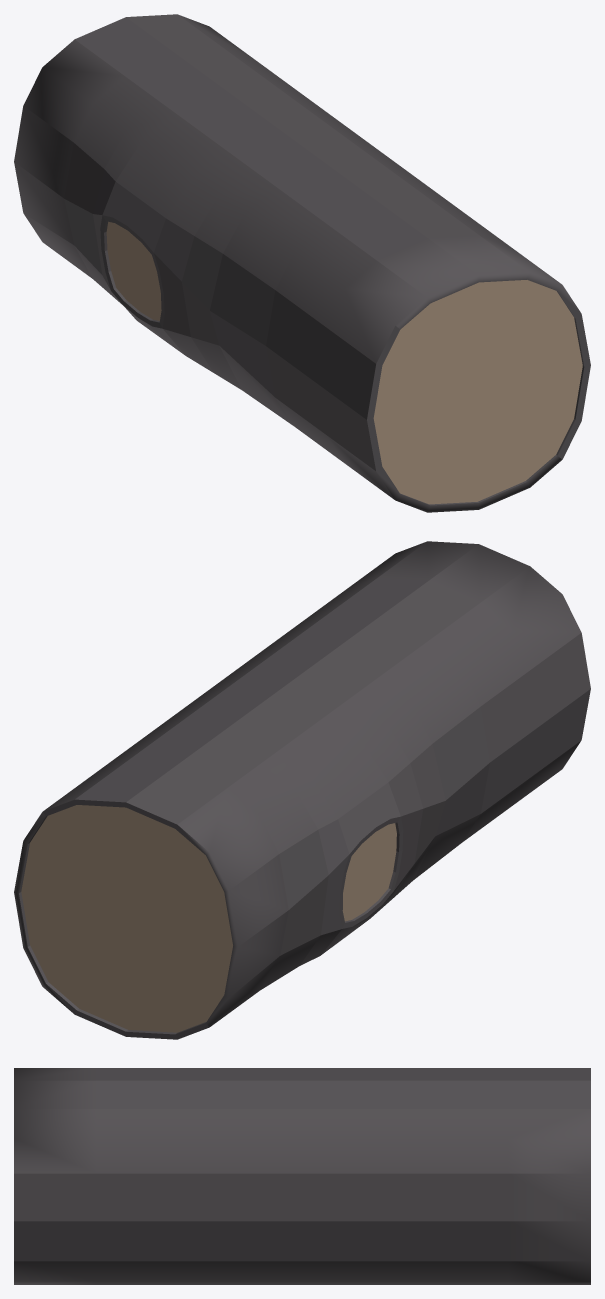
Rendered from BeechLog.fbx.
3 views of the same model, one above another, from view 1: azimuth 30°, elevation 25°; view 2: azimuth 150°, elevation 25°; view 3: azimuth 270°, elevation 25° (orthographic). The views are drawn at different scales.
Parts seen in each view (by area): view 1: Cube; view 2: Cube; view 3: Cube.
Part boxes in pixels (x1,y1,x2,y2): Cube: [14, 14, 590, 512]; Cube: [14, 541, 590, 1039]; Cube: [14, 1068, 590, 1284].
Bounding box in the file's own units: 271 × 257 × 700.
